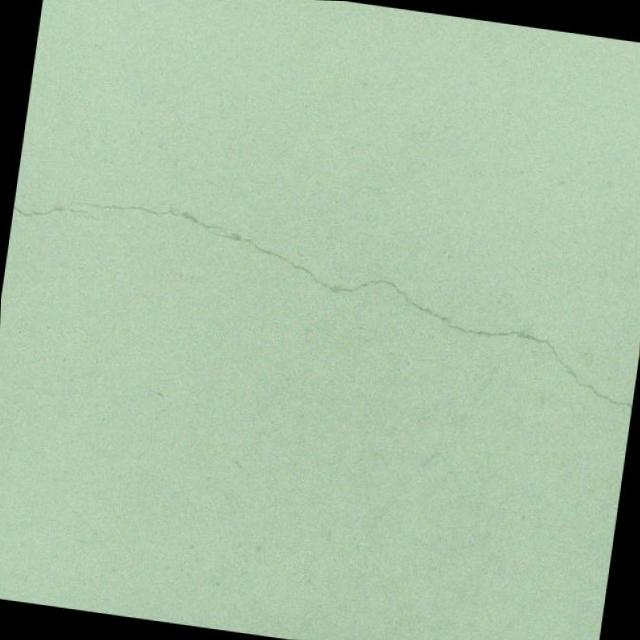crack: (45, 191, 640, 410), (12, 198, 122, 228), (376, 192, 390, 222), (350, 244, 360, 264)
